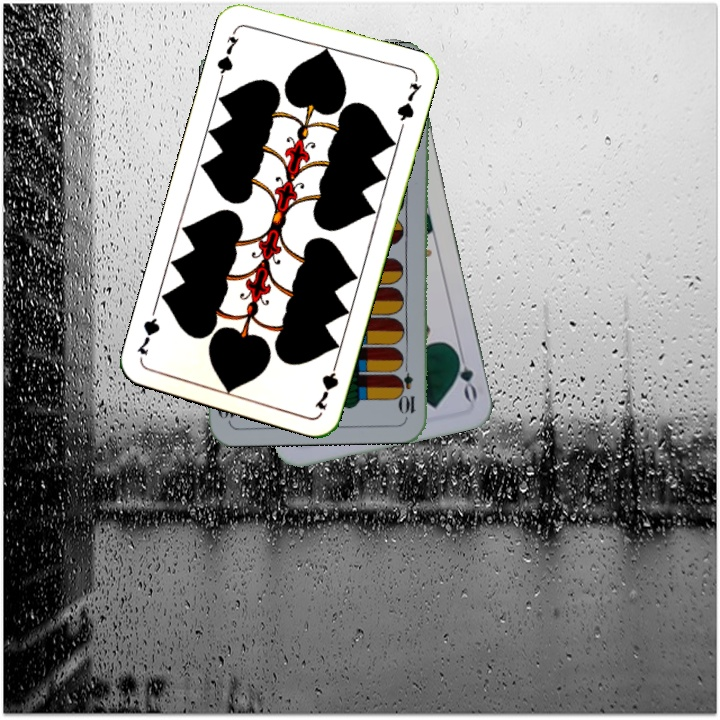E10: (398, 358, 417, 417)
G7: (310, 355, 341, 413), (212, 32, 242, 82)
GO: (449, 344, 480, 403)
